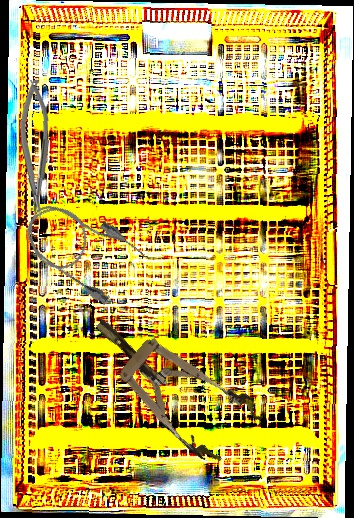Cannula: (13, 186, 150, 310)
Needle Holder: (18, 79, 51, 220)
Speculum: (74, 291, 268, 473)
